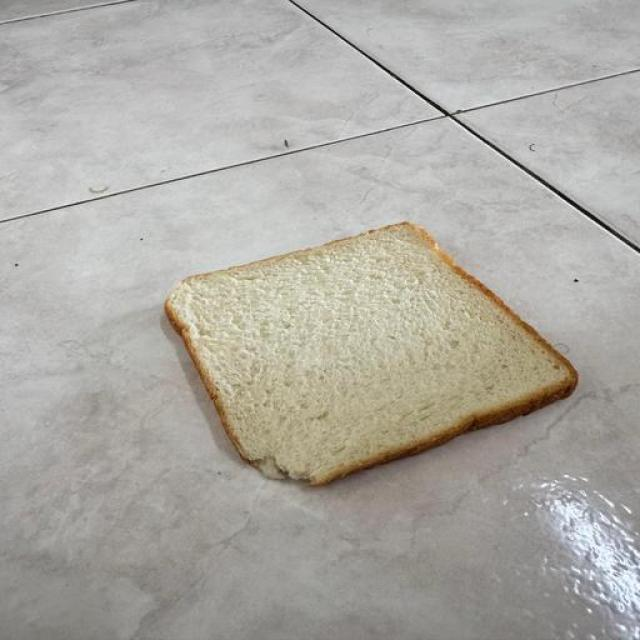organic: (310, 223, 577, 484)
